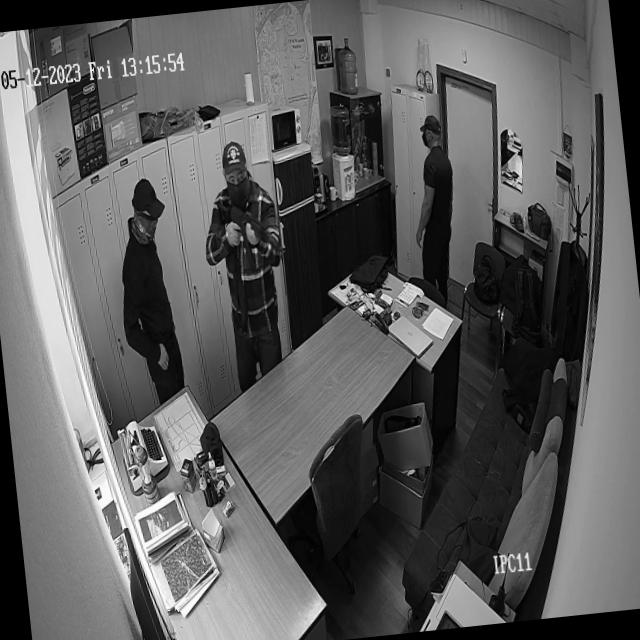gun: (213, 195, 283, 266)
person: (109, 180, 185, 396), (404, 110, 462, 280)
person with a gun: (198, 140, 294, 384)
